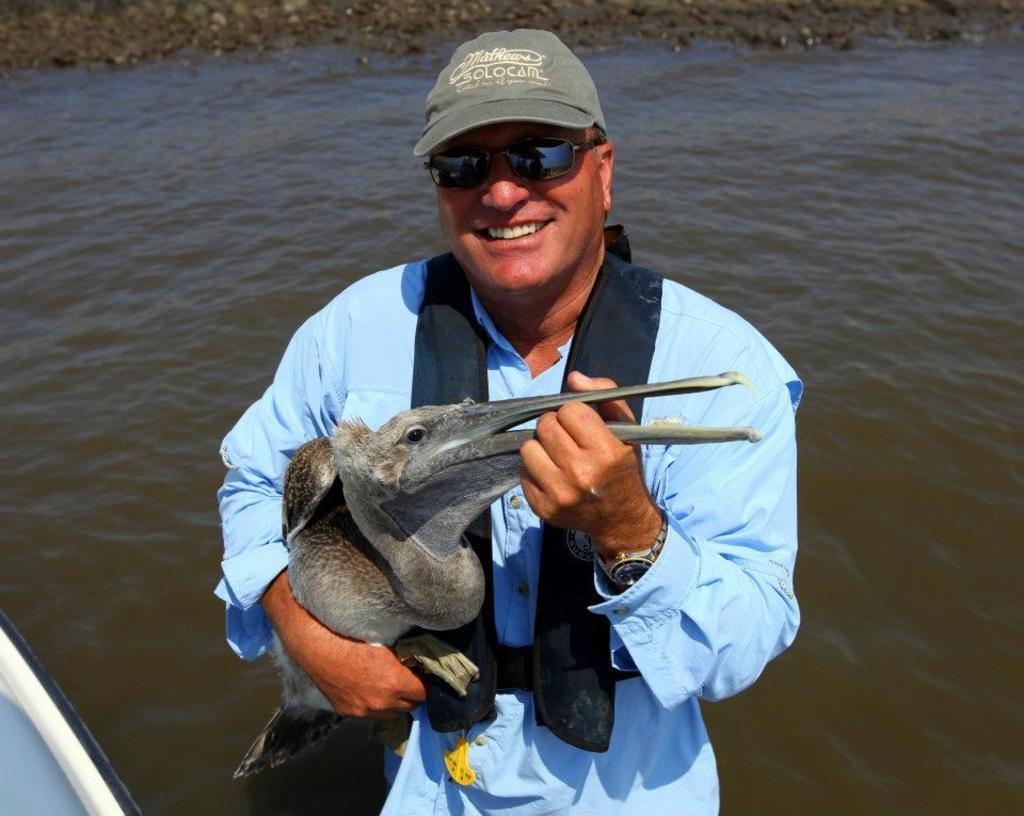Hat: (412, 27, 610, 156)
